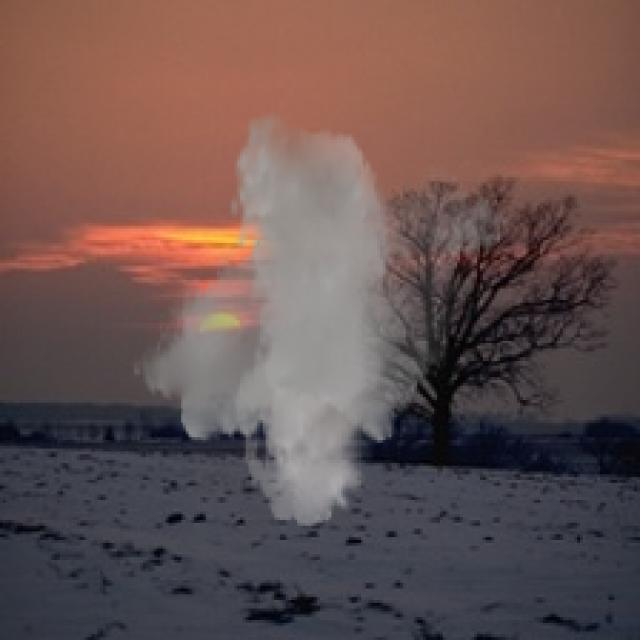smoke: (132, 111, 512, 528)
